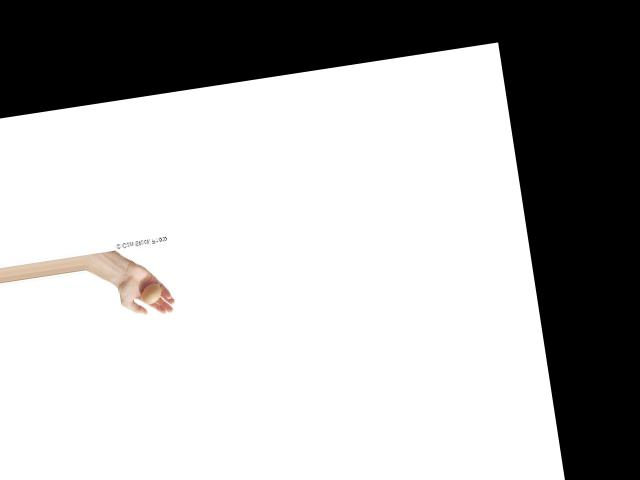egg: (141, 282, 163, 303)
